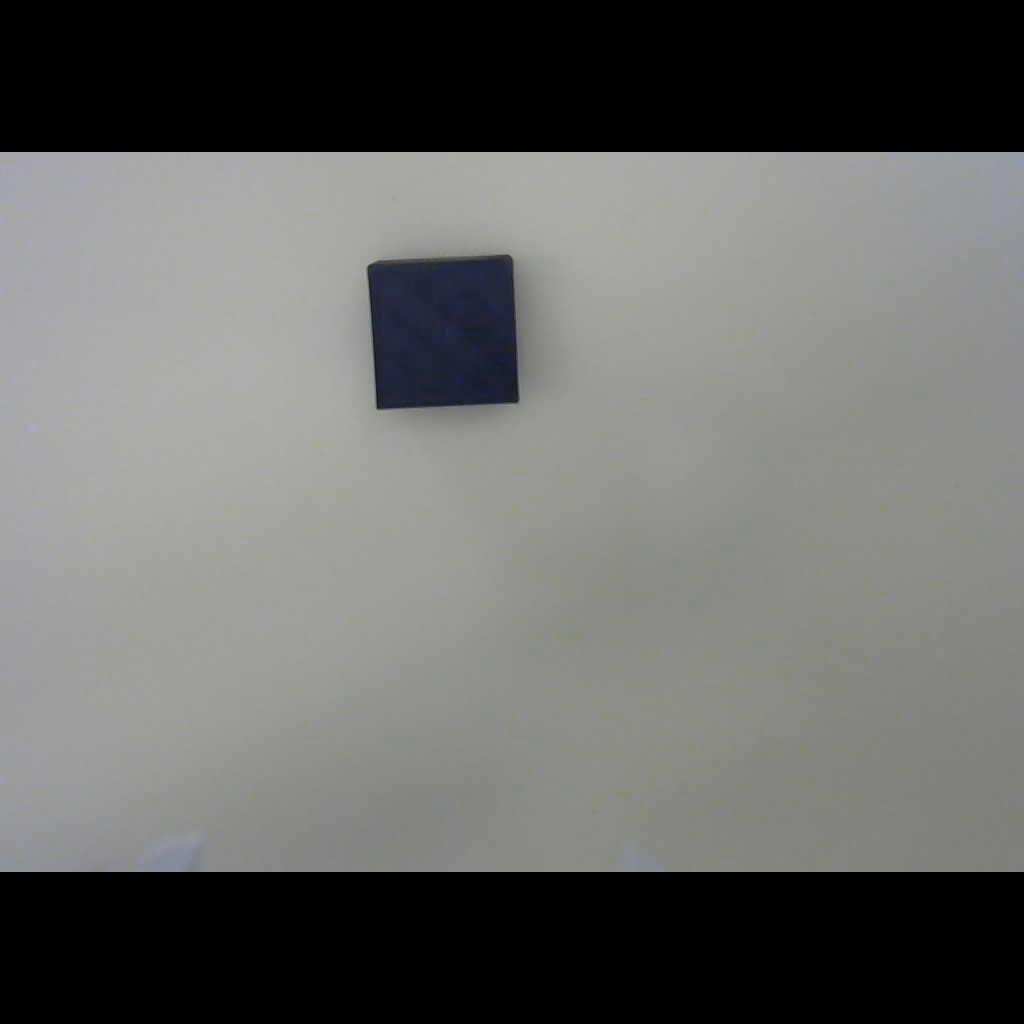square: (343, 230, 545, 432)
